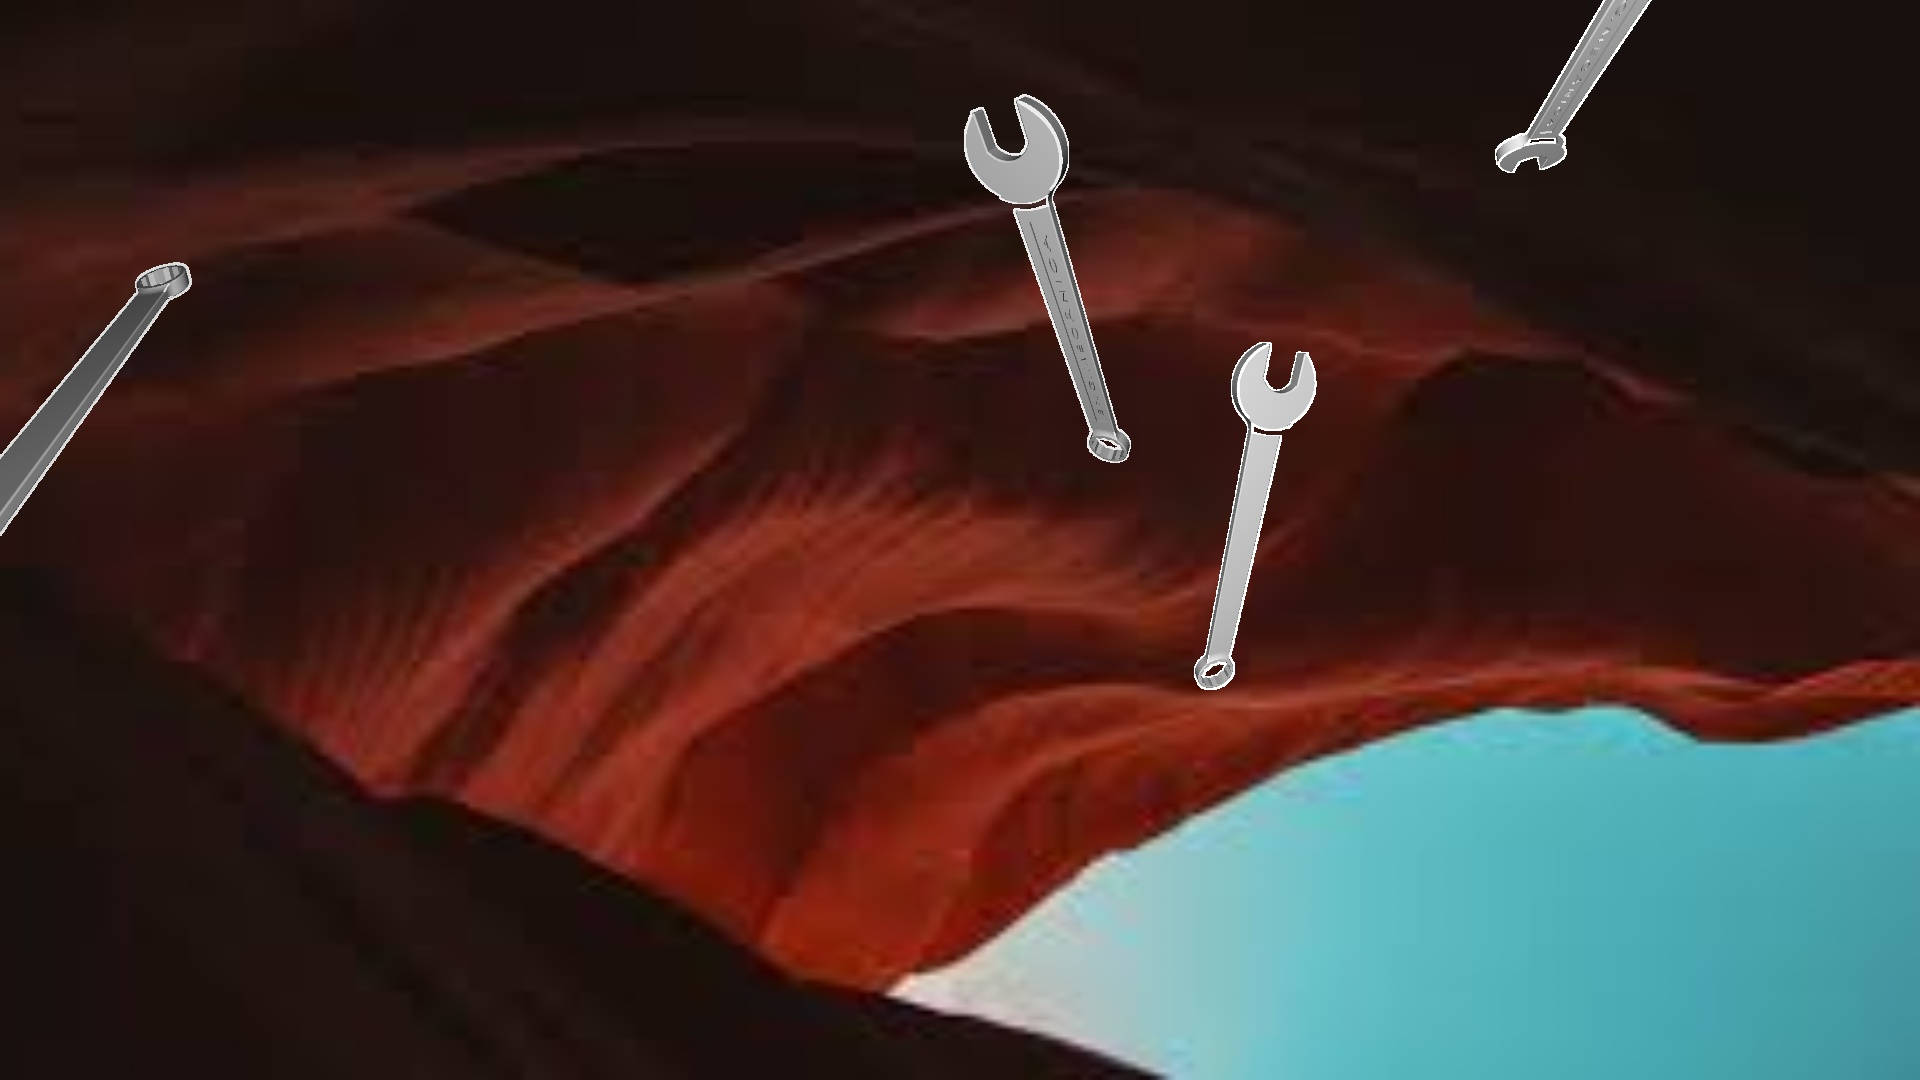Mixed Key: (964, 94, 1130, 462), (0, 262, 191, 535), (1193, 342, 1316, 688), (1495, 0, 1651, 171)
